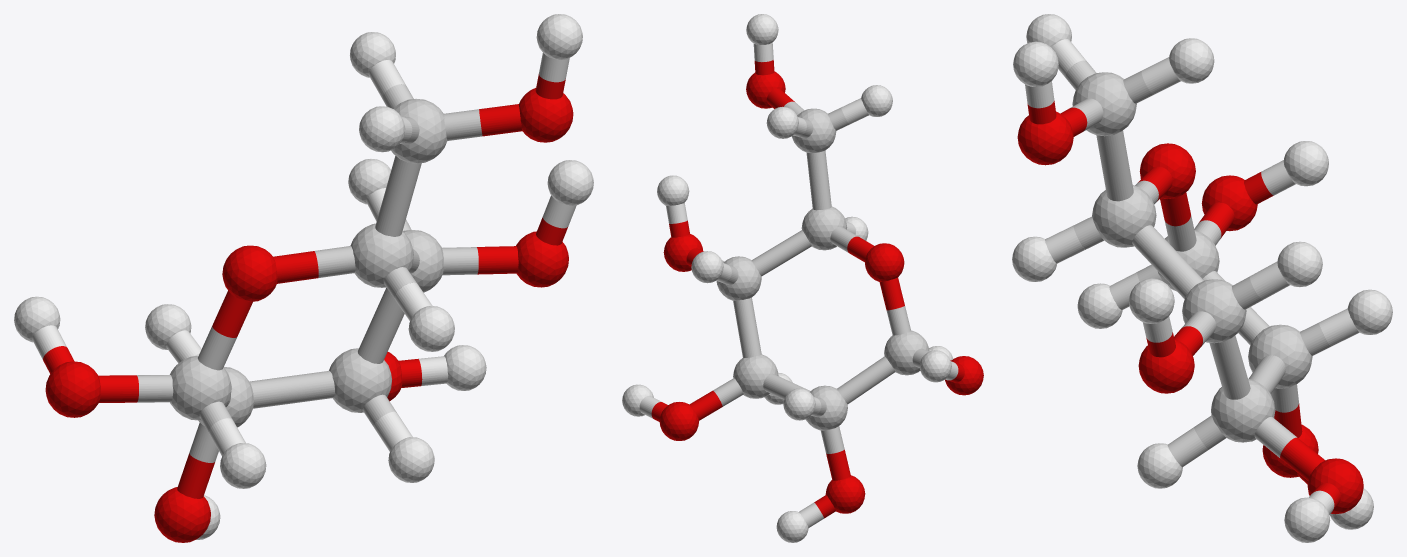
The model's file is d_glucose.fbx.
3 views of the same model, side by side, from view 1: azimuth 30°, elevation 25°; view 2: azimuth 150°, elevation 25°; view 3: azimuth 270°, elevation 25° (orthographic). The views are drawn at different scales.
Visible parts, largest first — view 1: d_glucose; view 2: d_glucose; view 3: d_glucose.
Part boxes in pixels (bbox=[...]): d_glucose: bbox=[14, 14, 593, 542]; d_glucose: bbox=[622, 14, 983, 542]; d_glucose: bbox=[1012, 14, 1392, 542].
Size of the model in its own units: 6316 by 7084 by 4202.
